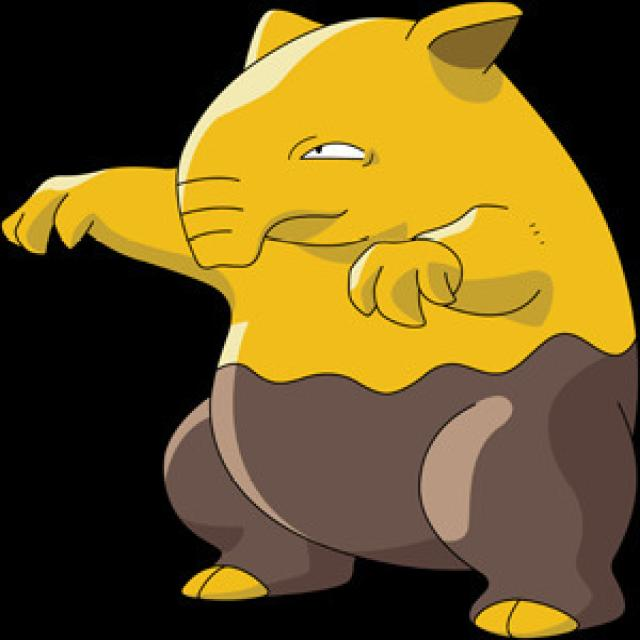Drowzee: (150, 4, 622, 615)
